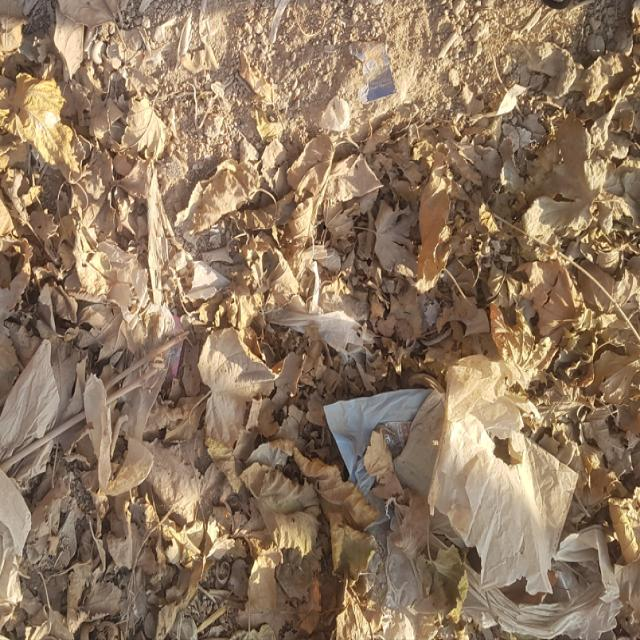paper: (188, 317, 282, 456), (0, 53, 80, 194), (167, 138, 268, 236), (233, 464, 327, 564), (284, 119, 331, 290), (417, 136, 464, 298), (119, 81, 170, 173), (608, 472, 640, 575)
